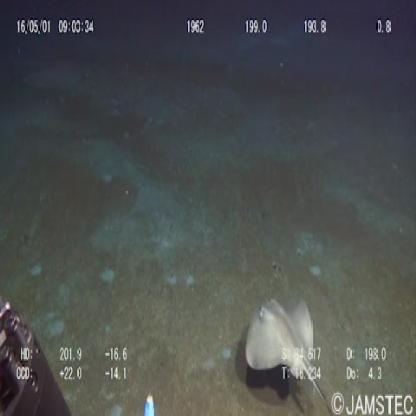Bio: (239, 289, 337, 410)
Rov: (0, 292, 74, 416)
